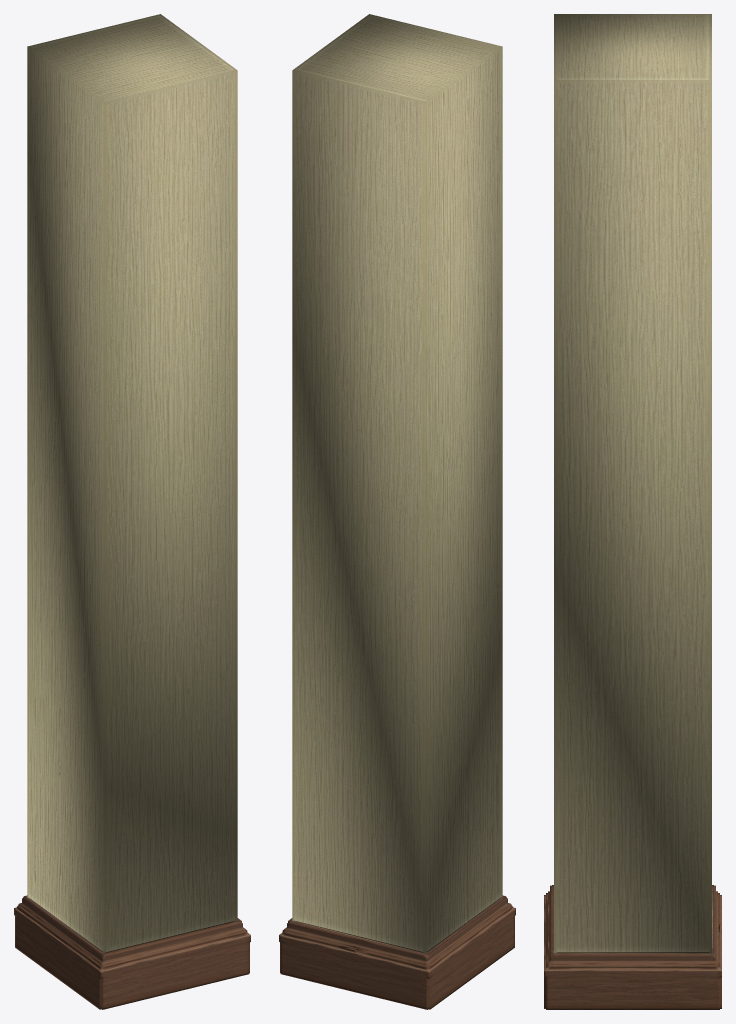
The model's file is tripo_convert_1ac10d12-aab2-40c7-8f70-2f44cc976a35.fbx.
3 views of the same model, side by side, from view 1: azimuth 30°, elevation 25°; view 2: azimuth 150°, elevation 25°; view 3: azimuth 270°, elevation 25° (orthographic). The views are drawn at different scales.
Visible parts, largest first — view 1: tripo_node_1ac10d12; view 2: tripo_node_1ac10d12; view 3: tripo_node_1ac10d12.
Part boxes in pixels (bbox=[...]): tripo_node_1ac10d12: bbox=[14, 14, 250, 1009]; tripo_node_1ac10d12: bbox=[279, 14, 515, 1009]; tripo_node_1ac10d12: bbox=[544, 14, 721, 1009].
Bounding box in the file's own units: 0.1738 × 0.998 × 0.1738.
1 material, 1 textured.
